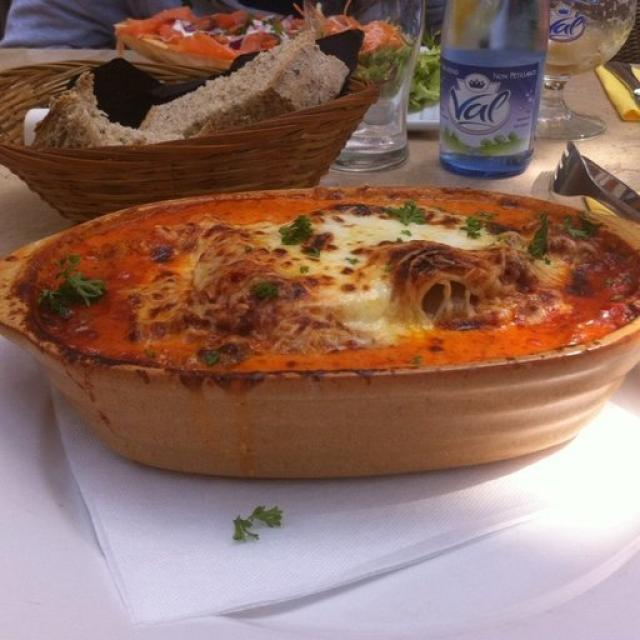Lasagna: (79, 199, 598, 347)
